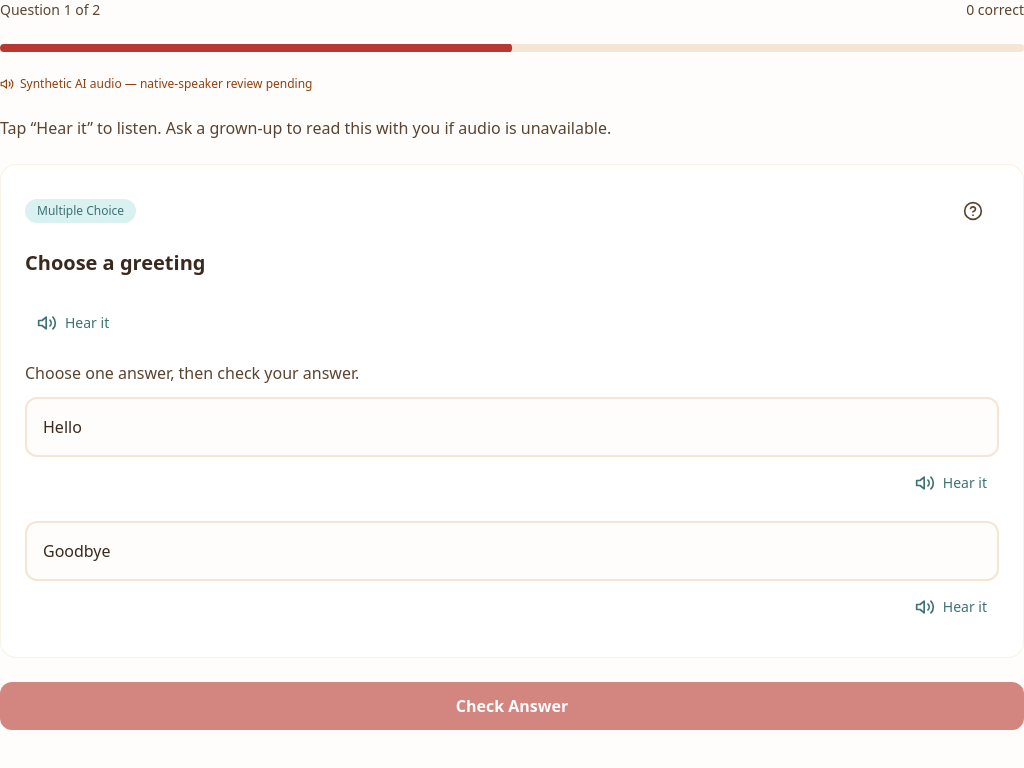
Test: PR5 lesson accessibility regressions › names and expands the hint, exposes changed selection, and announces one result
Later steps or results of the test are not shown.
Click the button named "Show hint" at x=977, y=211, box top-left (955, 189), bottom-right (999, 233)
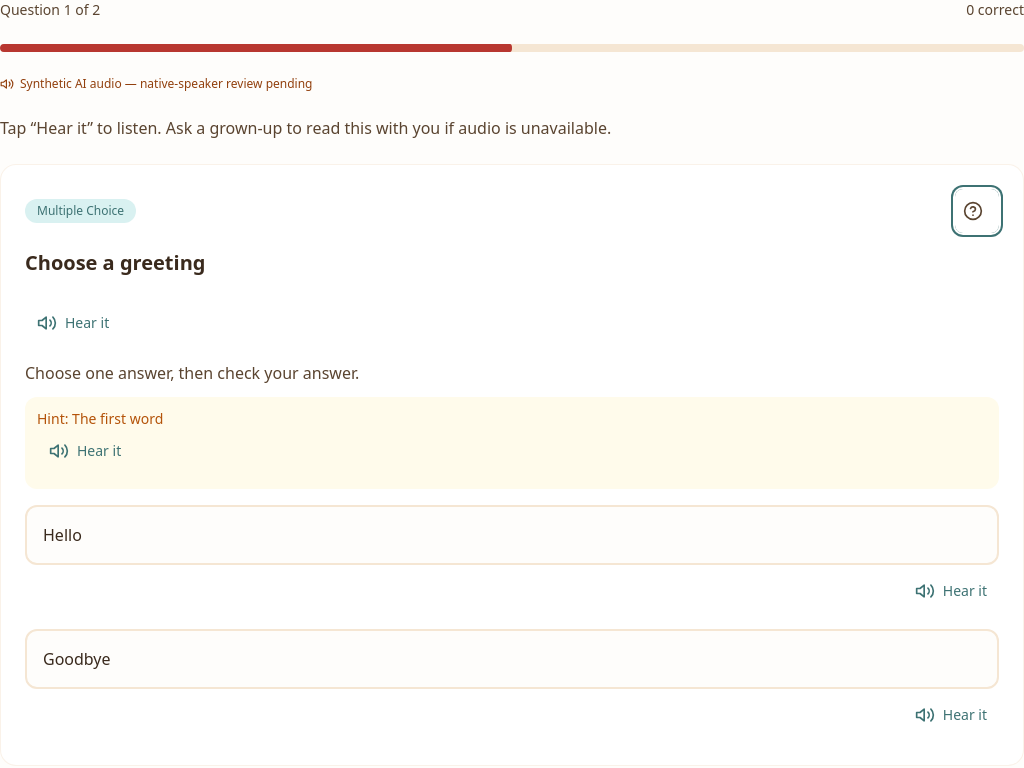
Click the button "Goodbye" at x=77, y=659, box top-left (25, 629), bottom-right (999, 689)
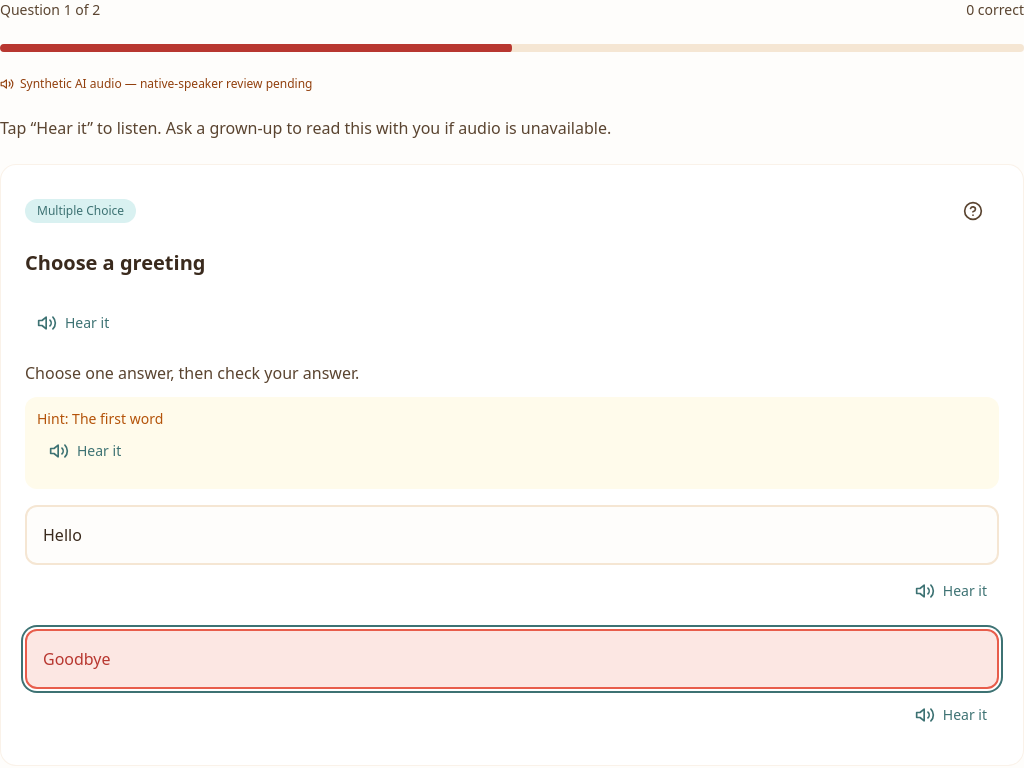
Check: the button "Goodbye" is pressed, box top-left (25, 629), bottom-right (999, 689)
Click the button "Hello" at x=62, y=535, box top-left (25, 505), bottom-right (999, 565)
(page scrolled)
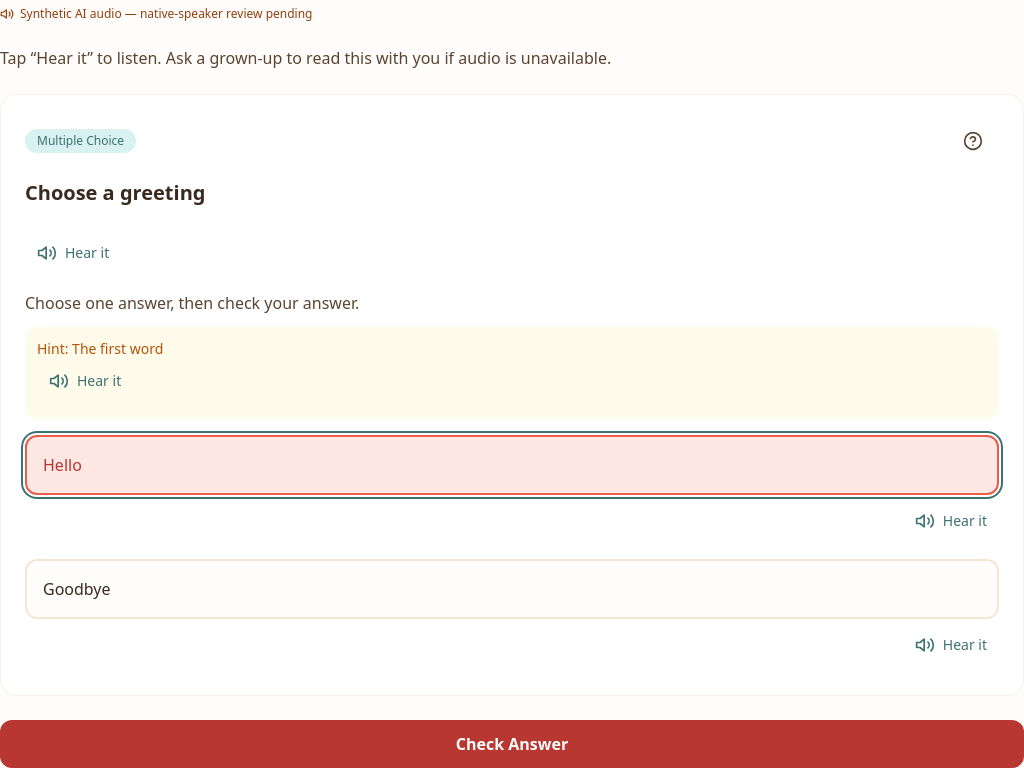
Check: the button "Hello" is pressed, box top-left (25, 435), bottom-right (999, 495)
Check: the button "Goodbye" is not pressed, box top-left (25, 559), bottom-right (999, 619)
